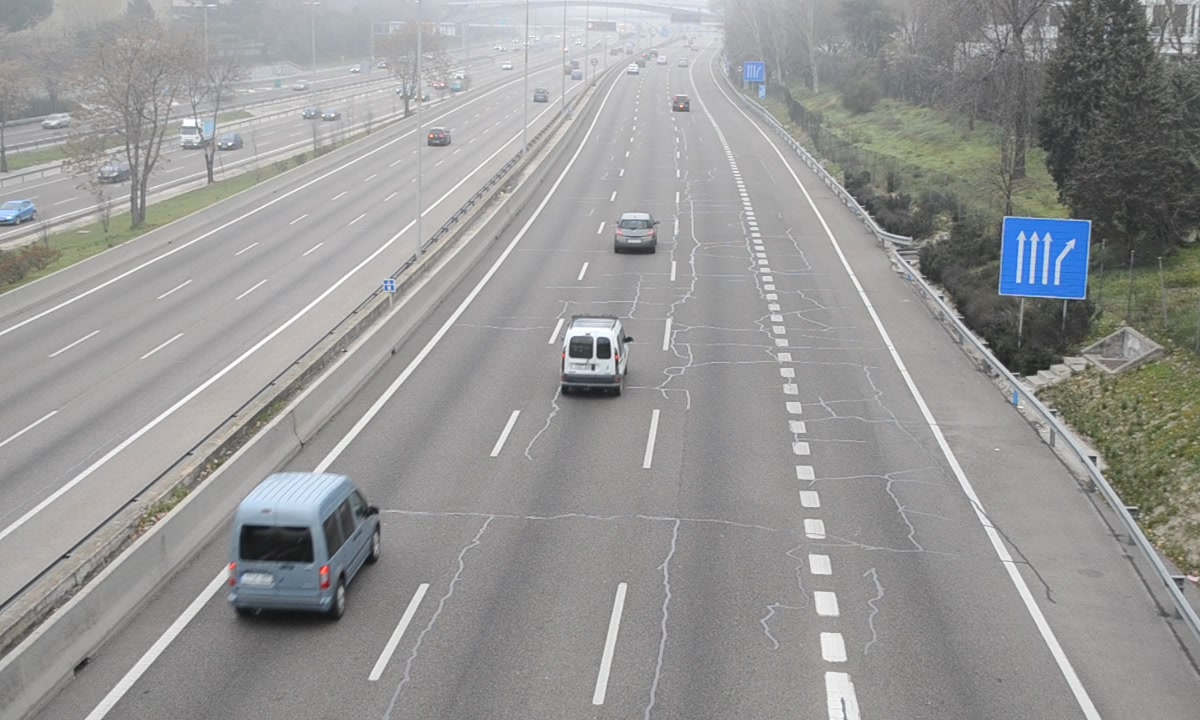car: (613, 212, 656, 251)
van: (232, 476, 381, 615), (561, 318, 628, 392)
